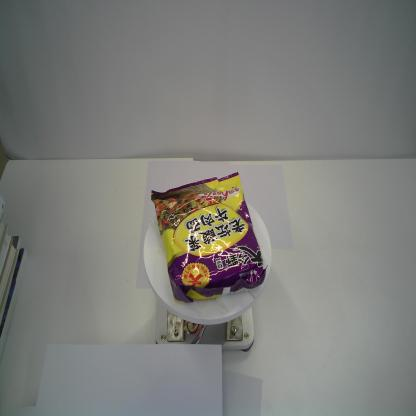Instant Noodles: (150, 170, 269, 306)
